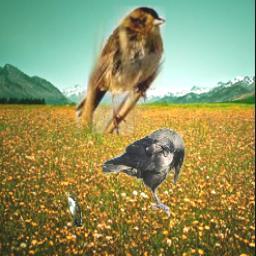Crow: (103, 127, 186, 217)
Cuckoo: (66, 193, 83, 227)
Sparrow: (75, 6, 165, 134)
